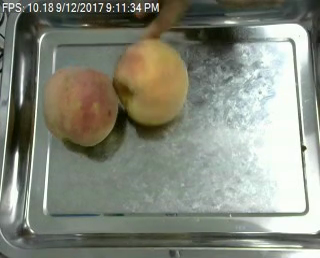Peach: (114, 38, 188, 126), (42, 65, 119, 146)
